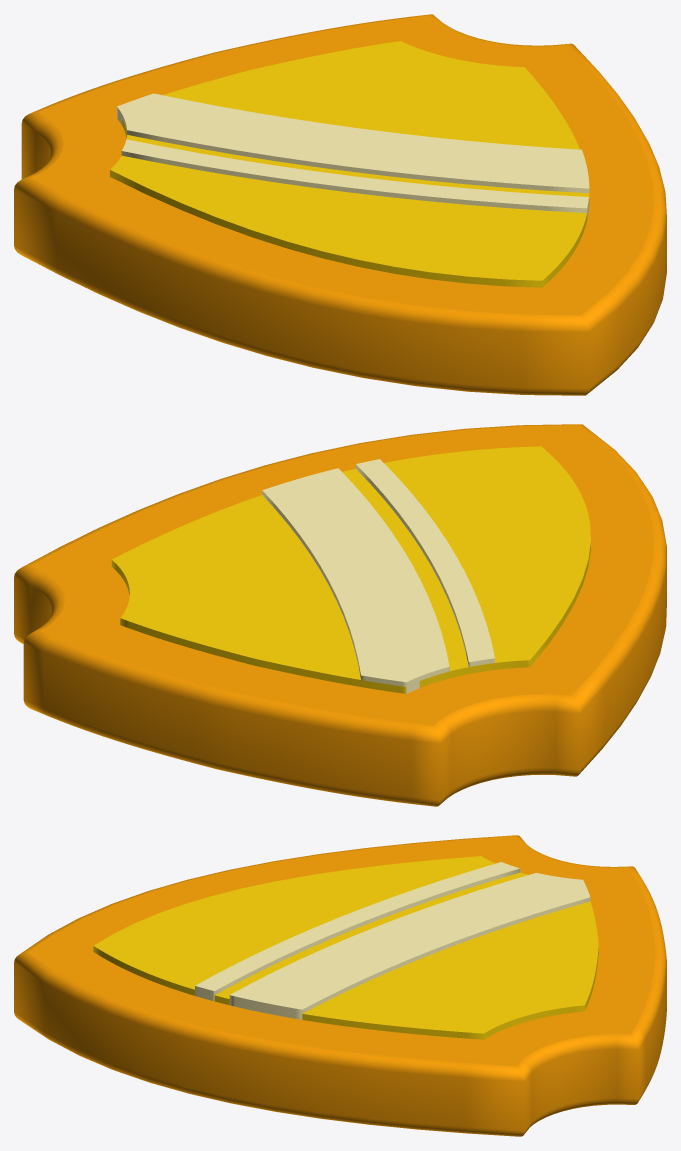
File: guvenlik.fbx
3 views of the same model, one above another, from view 1: azimuth 30°, elevation 25°; view 2: azimuth 150°, elevation 25°; view 3: azimuth 270°, elevation 25° (orthographic). The views are drawn at different scales.
Visible parts, largest first — view 1: Curve, Curve.001, Curve.002; view 2: Curve, Curve.001, Curve.002; view 3: Curve, Curve.001, Curve.002.
Boxes of the visible parts, x1=… form: Curve: x1=14, y1=14, x2=666, y2=395; Curve.001: x1=110, y1=41, x2=589, y2=287; Curve.002: x1=117, y1=93, x2=589, y2=218; Curve: x1=14, y1=424, x2=666, y2=806; Curve.001: x1=111, y1=446, x2=590, y2=693; Curve.002: x1=262, y1=459, x2=494, y2=693; Curve: x1=14, y1=835, x2=666, y2=1136; Curve.001: x1=93, y1=856, x2=598, y2=1039; Curve.002: x1=195, y1=862, x2=590, y2=1019.
Bounding box in the file's own units: 25.24 × 4.4 × 28.97.
